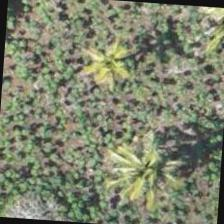Kelapa_Sawit: (99, 111, 195, 208), (64, 8, 160, 104)
